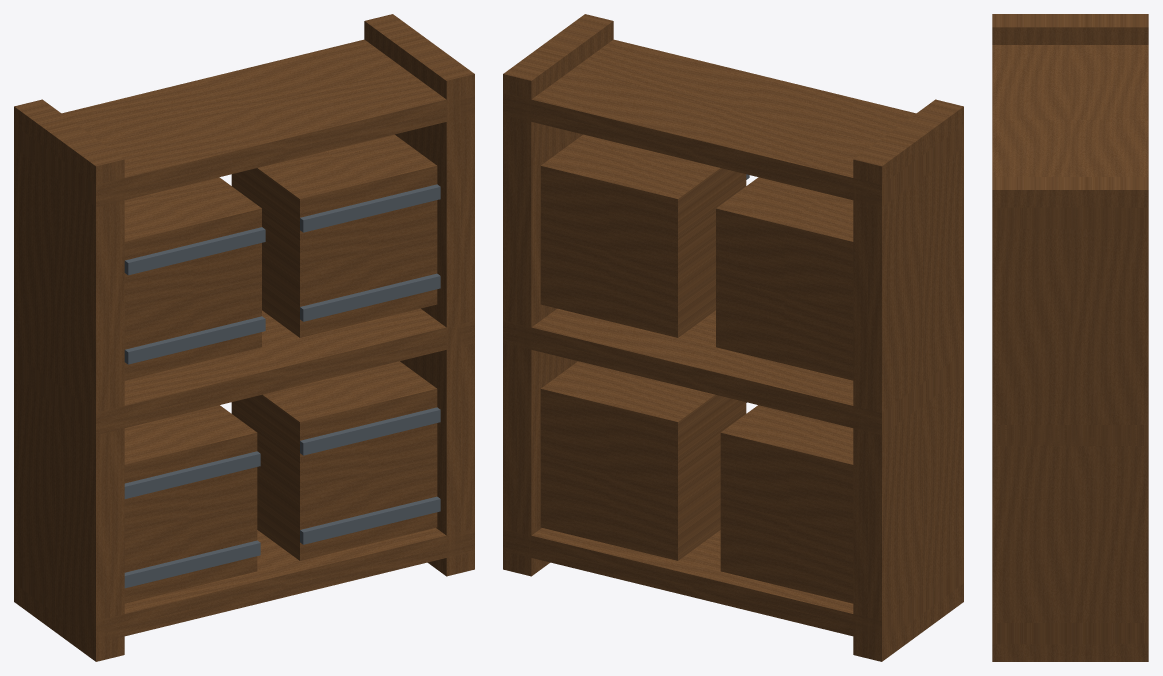
Rendered from storage-shelf.glb.
3 renders of one model, left to right at view 1: azimuth 30°, elevation 25°; view 2: azimuth 150°, elevation 25°; view 3: azimuth 270°, elevation 25°, orthographic. The views are drawn at different scales.
Visible parts, largest first — view 1: Shelf upright, Shelf board.002, Supply crate.003, Supply crate.001, Shelf upright.001, Supply crate.002, Supply crate, Shelf board.001, Shelf board, Crate iron band.005, Crate iron band.004, Crate iron band.007 (+5 smaller); view 2: Shelf upright, Shelf board.002, Supply crate.003, Supply crate.001, Supply crate.002, Supply crate, Shelf upright.001, Shelf board.001, Shelf board; view 3: Shelf upright.001, Shelf board.002, Shelf upright, Shelf board, Shelf board.001.
Part boxes in pixels (box(x1,y1,x2,y2)): Shelf upright: box(14, 99, 124, 661); Shelf board.002: box(14, 39, 474, 207); Supply crate.003: box(231, 134, 437, 337); Supply crate.001: box(231, 361, 437, 560); Shelf upright.001: box(364, 14, 474, 576); Supply crate.002: box(124, 177, 261, 380); Supply crate: box(124, 405, 257, 603); Shelf board.001: box(14, 308, 474, 435); Shelf board: box(14, 528, 474, 640); Crate iron band.005: box(124, 227, 265, 275); Crate iron band.004: box(124, 316, 265, 364); Crate iron band.007: box(300, 184, 440, 232); Shelf upright: box(853, 99, 963, 661); Shelf board.002: box(503, 39, 963, 206); Supply crate.003: box(540, 134, 746, 337); Supply crate.001: box(540, 361, 746, 560); Supply crate.002: box(716, 177, 853, 380); Supply crate: box(720, 405, 853, 603); Shelf upright.001: box(503, 14, 613, 576); Shelf board.001: box(503, 308, 963, 434); Shelf board: box(503, 528, 963, 638); Shelf upright.001: box(992, 177, 1148, 661); Shelf board.002: box(992, 45, 1148, 228); Shelf upright: box(992, 14, 1148, 44); Shelf board: box(992, 623, 1148, 644); Shelf board.001: box(992, 425, 1148, 445).
Bounding box in the file's own units: 0.8 × 1 × 0.3.
2 materials, 1 textured.
